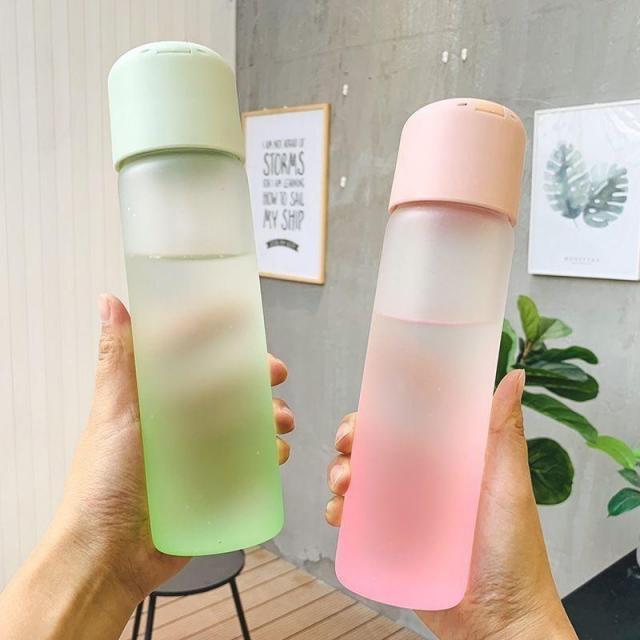gym bottle: (332, 95, 530, 610), (104, 38, 286, 557)
